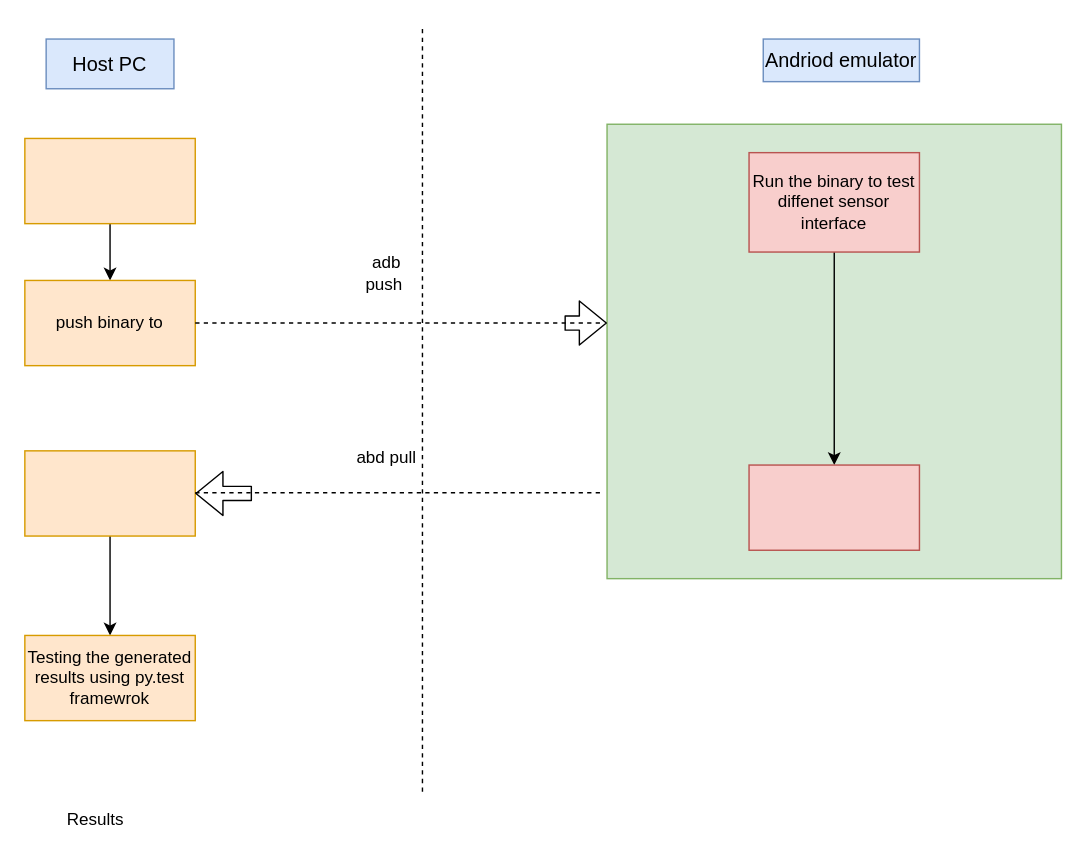
The diagram is 1086 pixels wide and 859 high, and some of its shapes have lost their labels. The centre of each missing label's shape, as x and y in pixels:
"cross compile Test C-Code for andriod" belongs at (x=109, y=180).
"Generated Results getting captures in logs file" belongs at (x=833, y=507).
"pull the results logs file" belongs at (x=109, y=492).
